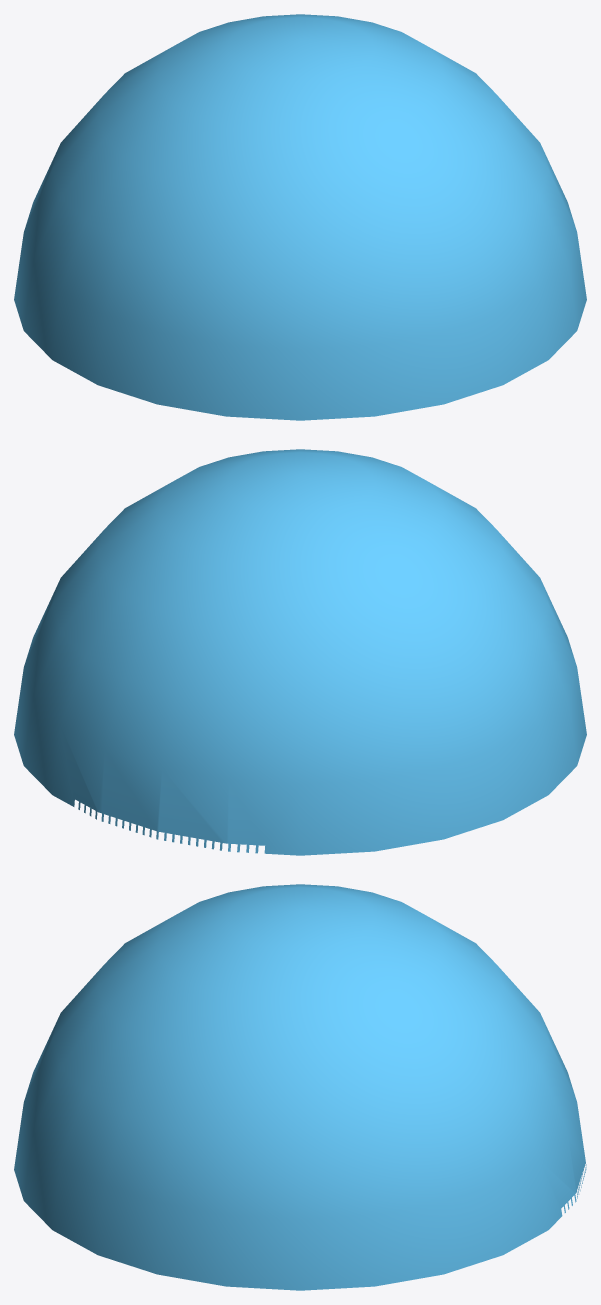
The picture shows the model from 3 angles, top to bottom: view 1: azimuth 30°, elevation 25°; view 2: azimuth 150°, elevation 25°; view 3: azimuth 270°, elevation 25°; orthographic projection.
Visible parts, largest first — view 1: Layer0_001; view 2: Layer0_001; view 3: Layer0_001.
Boxes of the visible parts, x1,y1,x2,y2 form: Layer0_001: [14, 14, 586, 420]; Layer0_001: [14, 449, 586, 855]; Layer0_001: [14, 884, 586, 1290].
Bounding box in the file's own units: 39278 × 19639 × 39278.
